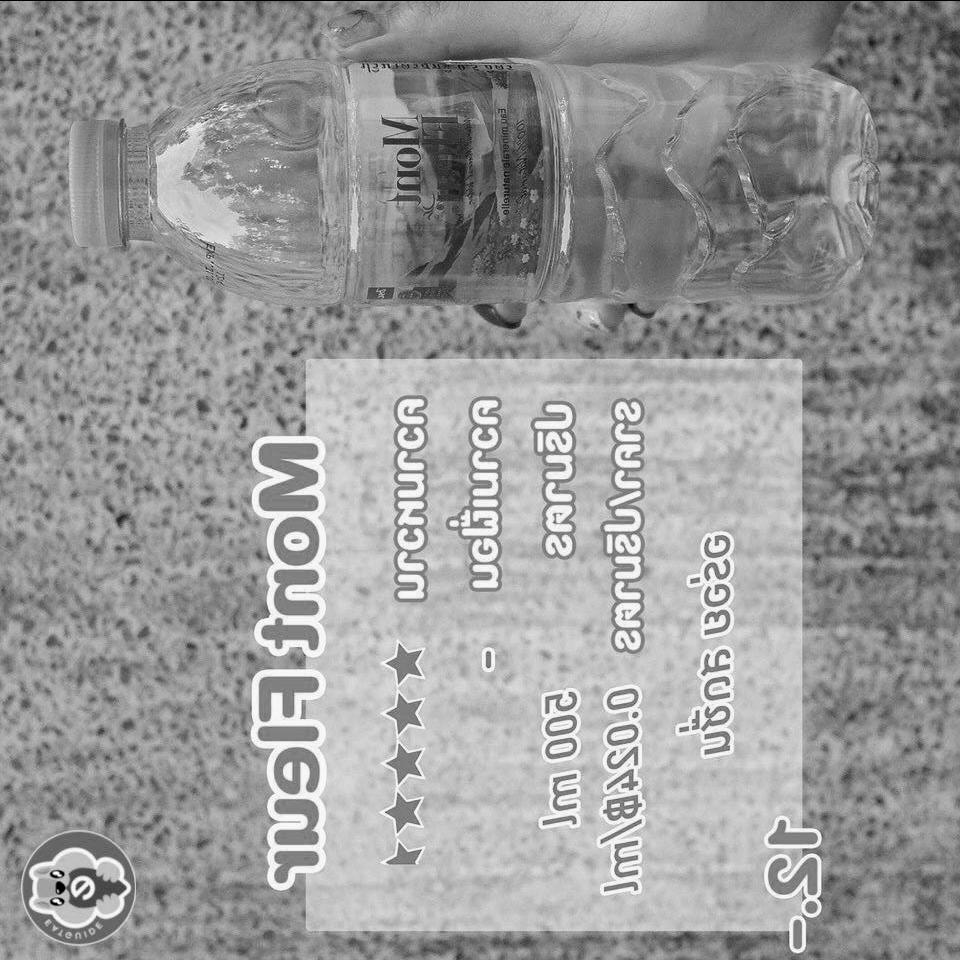bottle: (42, 40, 903, 324)
